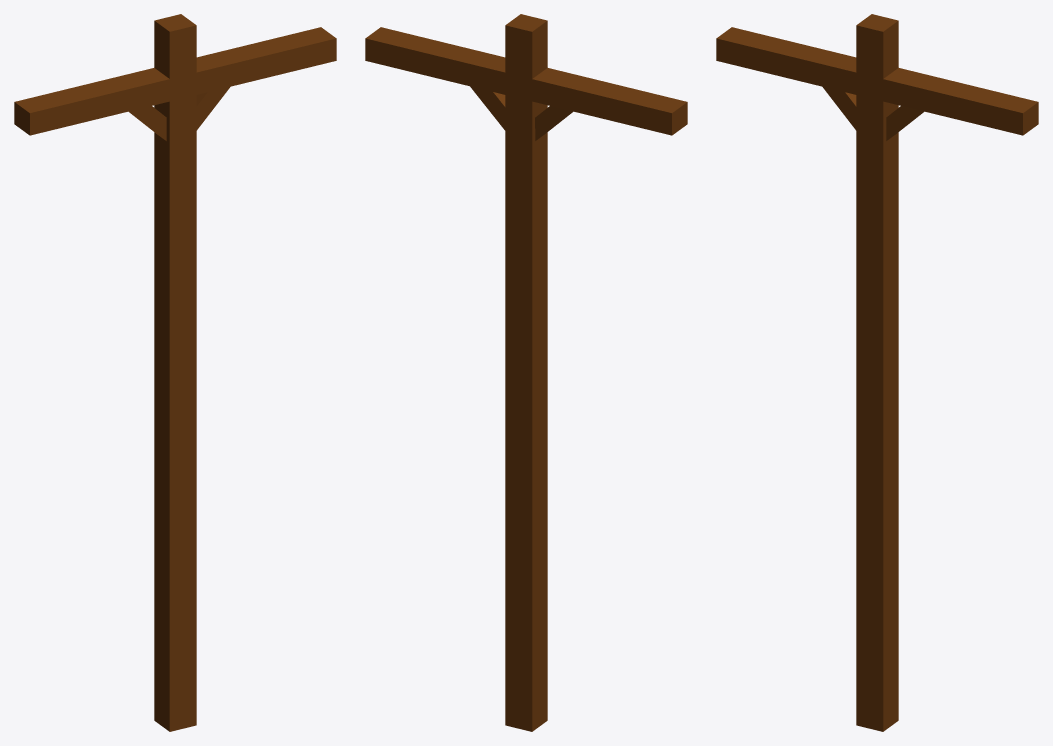
File: TelephonePole.glb
The picture shows the model from 3 angles, left to right: view 1: azimuth 30°, elevation 25°; view 2: azimuth 150°, elevation 25°; view 3: azimuth 330°, elevation 25°; orthographic projection.
Visible parts, largest first — view 1: TelephonePole; view 2: TelephonePole; view 3: TelephonePole.
Part boxes in pixels (box(x1,y1,x2,y2)): TelephonePole: box(14, 14, 336, 731); TelephonePole: box(365, 14, 687, 731); TelephonePole: box(716, 14, 1038, 731).
Size of what is drawn, in the model's own units: 2.53 by 5.52 by 0.2215.
